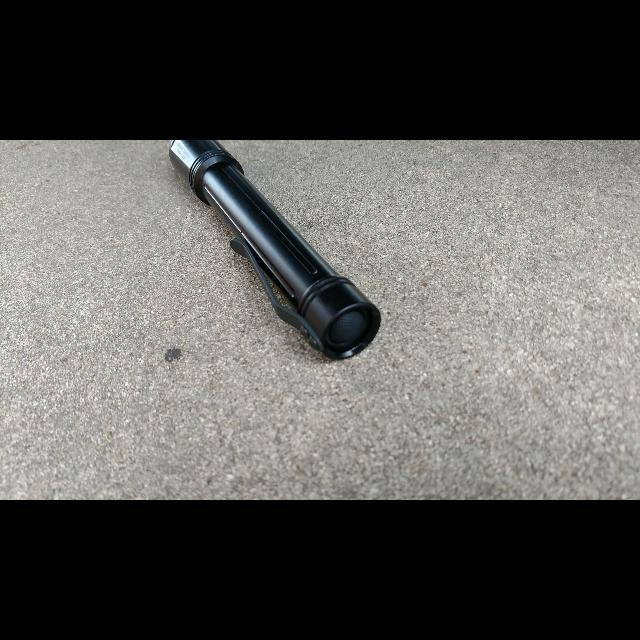Flashlight: (163, 140, 387, 364)
